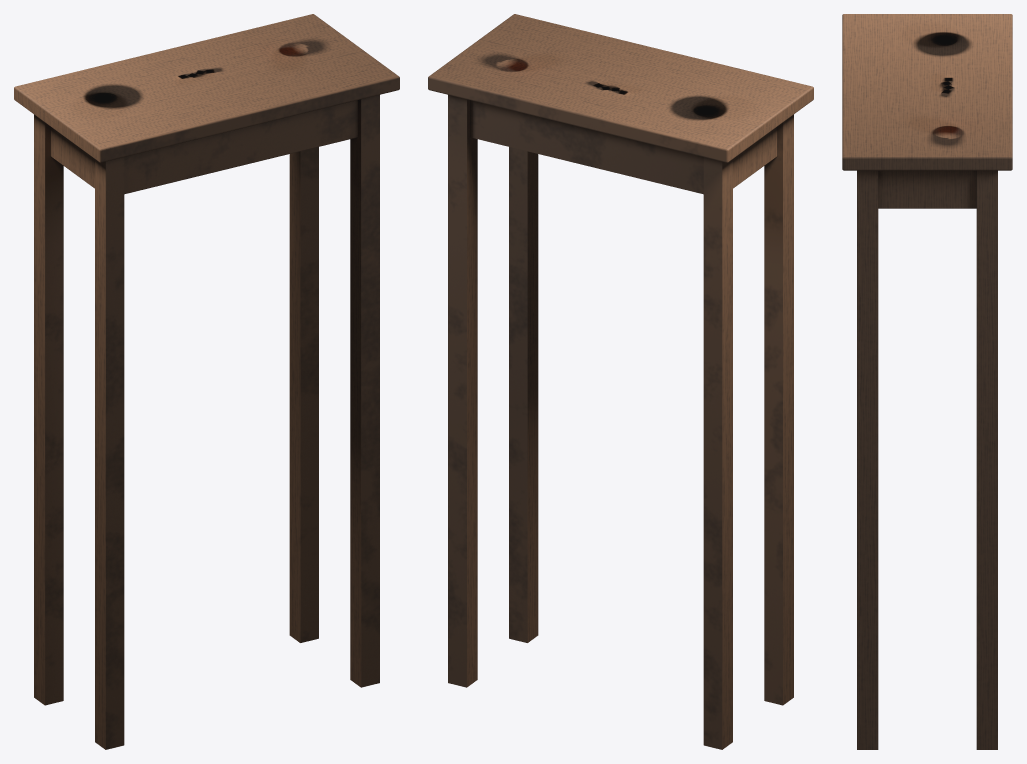
The model's file is 413_hook.glb.
3 views of the same model, side by side, from view 1: azimuth 30°, elevation 25°; view 2: azimuth 150°, elevation 25°; view 3: azimuth 270°, elevation 25° (orthographic).
Parts seen in each view (by area): view 1: Table; view 2: Table; view 3: Table.
Part boxes in pixels (x1,y1,x2,y2): Table: (14,14,399,749); Table: (428,14,813,749); Table: (842,14,1012,749).
Size of what is drawn, in the model's own units: 1.6 by 3.1 by 0.8.
1 material, 1 textured.
